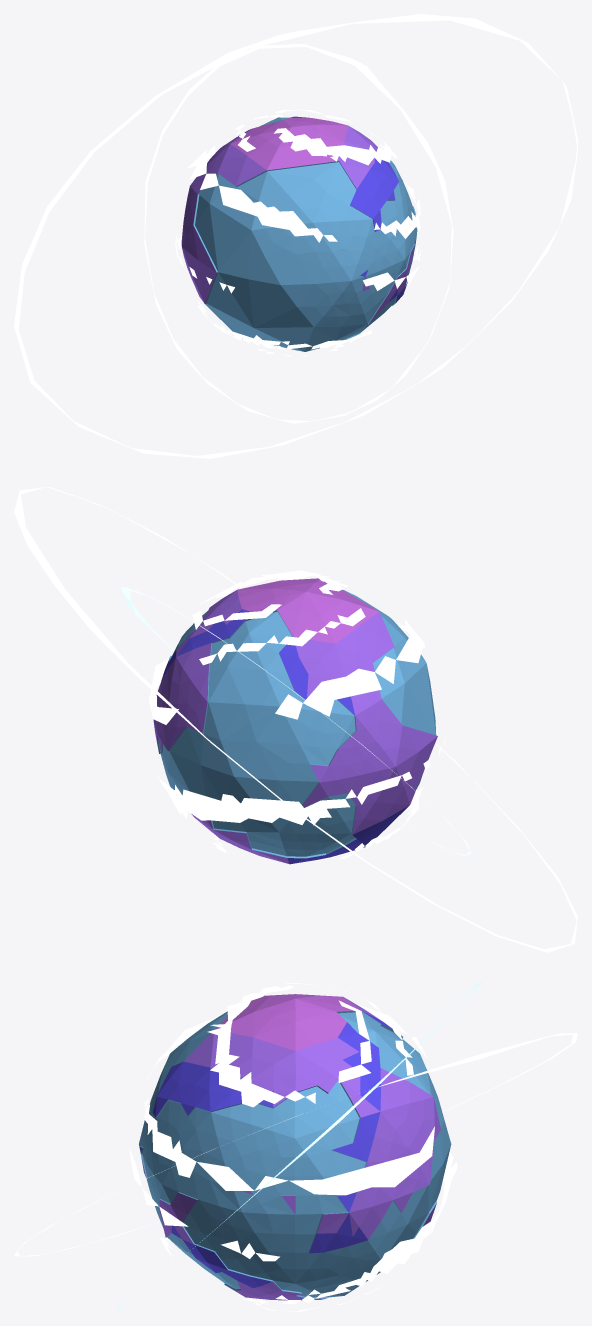
File: platformplanet.glb
3 renders of one model, top to bottom at view 1: azimuth 30°, elevation 25°; view 2: azimuth 150°, elevation 25°; view 3: azimuth 270°, elevation 25°, orthographic. The views are drawn at different scales.
Visible parts, largest first — view 1: planet9; view 2: planet9; view 3: planet9.
Boxes of the visible parts, bbox=[...] form: planet9: bbox=[14, 14, 577, 458]; planet9: bbox=[14, 487, 577, 952]; planet9: bbox=[14, 981, 577, 1311].
Size of the model in its own units: 6.82 by 3.95 by 5.33.
Materials: 1 (1 with a texture image).
